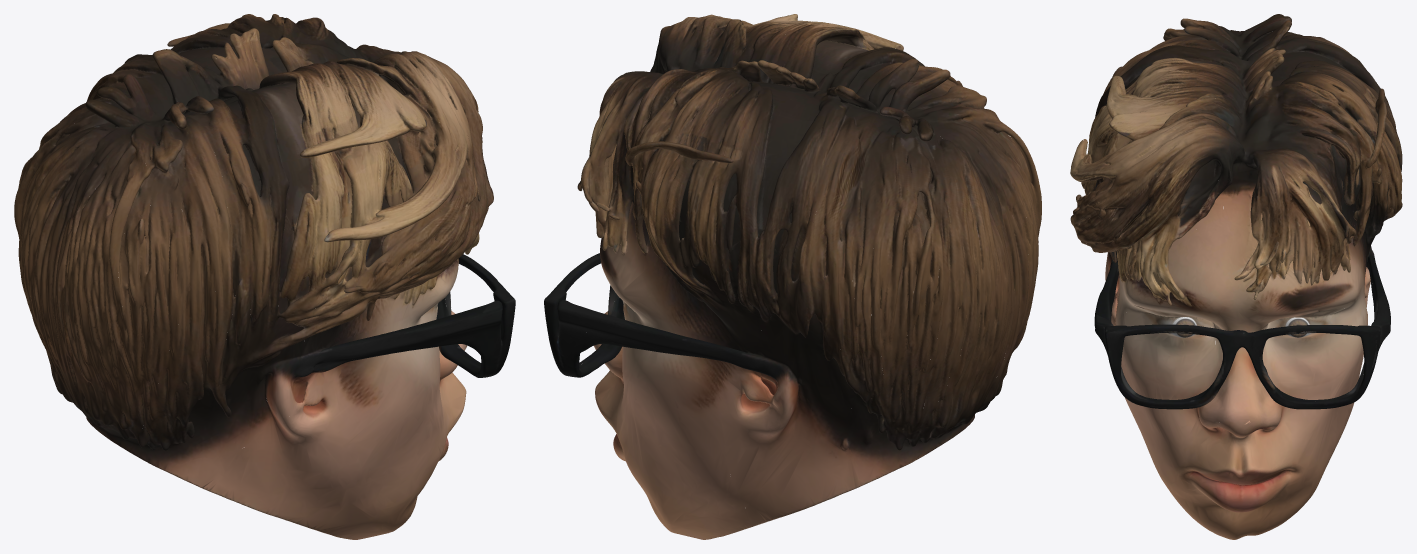
The model's file is head-v1.glb.
The picture shows the model from 3 angles, left to right: view 1: azimuth 30°, elevation 25°; view 2: azimuth 150°, elevation 25°; view 3: azimuth 270°, elevation 25°; orthographic projection. The views are drawn at different scales.
Parts seen in each view (by area): view 1: HeadMesh; view 2: HeadMesh; view 3: HeadMesh.
Part boxes in pixels (x1,y1,x2,y2): HeadMesh: (14,14,515,539); HeadMesh: (544,14,1041,539); HeadMesh: (1070,14,1402,539).
Bounding box in the file's own units: 0.8783 × 1 × 0.6899.
5 materials, 3 textured.
